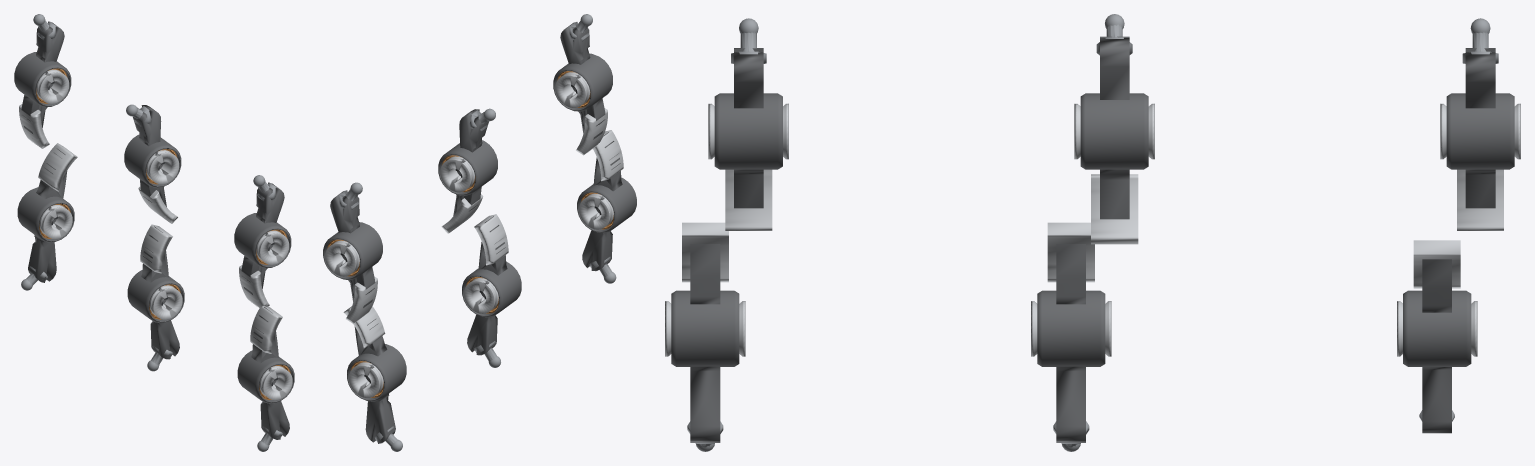
File: rockers-right.glb
3 views of the same model, side by side, from view 1: azimuth 30°, elevation 25°; view 2: azimuth 150°, elevation 25°; view 3: azimuth 270°, elevation 25° (orthographic). The views are drawn at different scales.
Visible parts, largest first — view 1: rockers-right:forgedSteel, rockers-right:polishedSteel, rockers-right:steel, rockers-right:bronze; view 2: rockers-right:forgedSteel, rockers-right:polishedSteel, rockers-right:steel, rockers-right:bronze; view 3: rockers-right:forgedSteel, rockers-right:polishedSteel, rockers-right:steel.
Part boxes in pixels (bbox=[...]): rockers-right:forgedSteel: bbox=[14, 21, 294, 439]; rockers-right:polishedSteel: bbox=[19, 69, 292, 400]; rockers-right:steel: bbox=[21, 14, 282, 451]; rockers-right:bronze: bbox=[36, 68, 290, 399]; rockers-right:forgedSteel: bbox=[323, 22, 636, 443]; rockers-right:polishedSteel: bbox=[325, 72, 623, 397]; rockers-right:steel: bbox=[338, 14, 616, 451]; rockers-right:bronze: bbox=[327, 71, 613, 397]; rockers-right:forgedSteel: bbox=[671, 36, 1514, 442]; rockers-right:polishedSteel: bbox=[665, 103, 1520, 356]; rockers-right:steel: bbox=[687, 14, 1498, 451].
Bounding box in the file's own units: 33.28 × 156 × 276.
